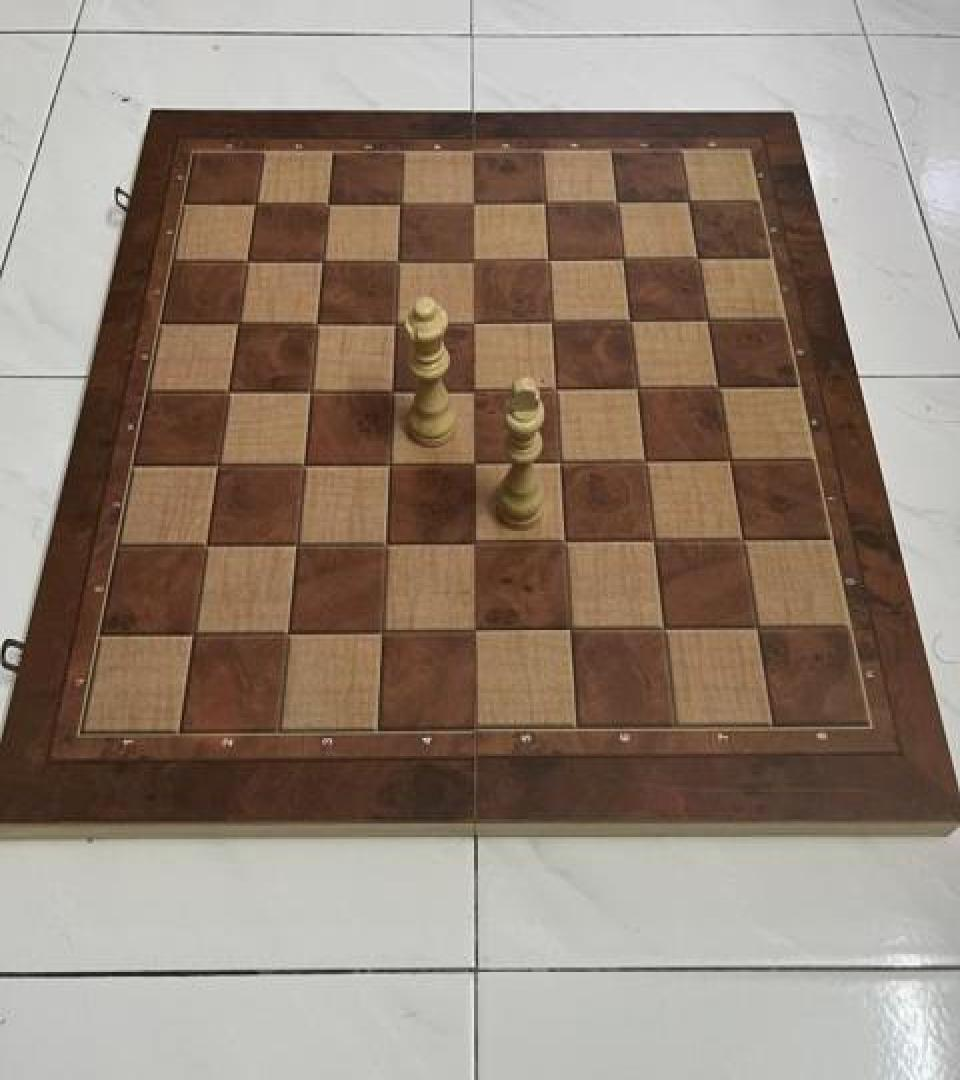xcorner: (643, 608, 675, 645), (550, 608, 582, 645), (669, 182, 701, 218), (597, 184, 629, 220), (525, 184, 557, 220), (453, 184, 485, 220), (310, 187, 342, 223), (239, 187, 271, 223), (678, 240, 710, 276), (603, 240, 635, 276), (528, 241, 560, 277), (454, 242, 486, 278), (379, 242, 411, 278), (305, 243, 337, 279), (231, 244, 263, 280), (688, 300, 720, 336), (610, 302, 642, 338), (532, 302, 564, 338), (454, 302, 486, 338), (377, 304, 409, 340), (299, 304, 331, 340), (222, 305, 254, 341), (698, 367, 730, 403), (617, 368, 649, 404), (536, 369, 568, 405), (455, 369, 487, 405), (374, 370, 406, 406), (293, 371, 325, 407), (212, 371, 244, 407), (710, 440, 742, 476), (625, 441, 657, 477), (540, 441, 572, 477), (455, 442, 487, 478), (370, 443, 402, 479), (286, 443, 318, 479), (201, 444, 233, 480), (723, 520, 755, 556), (634, 521, 666, 557), (545, 521, 577, 557), (456, 522, 488, 558), (367, 523, 399, 559), (278, 523, 310, 559), (190, 524, 222, 560), (737, 608, 769, 644), (456, 610, 488, 646), (363, 611, 395, 647), (270, 611, 302, 647), (177, 612, 209, 648), (382, 186, 414, 221)
